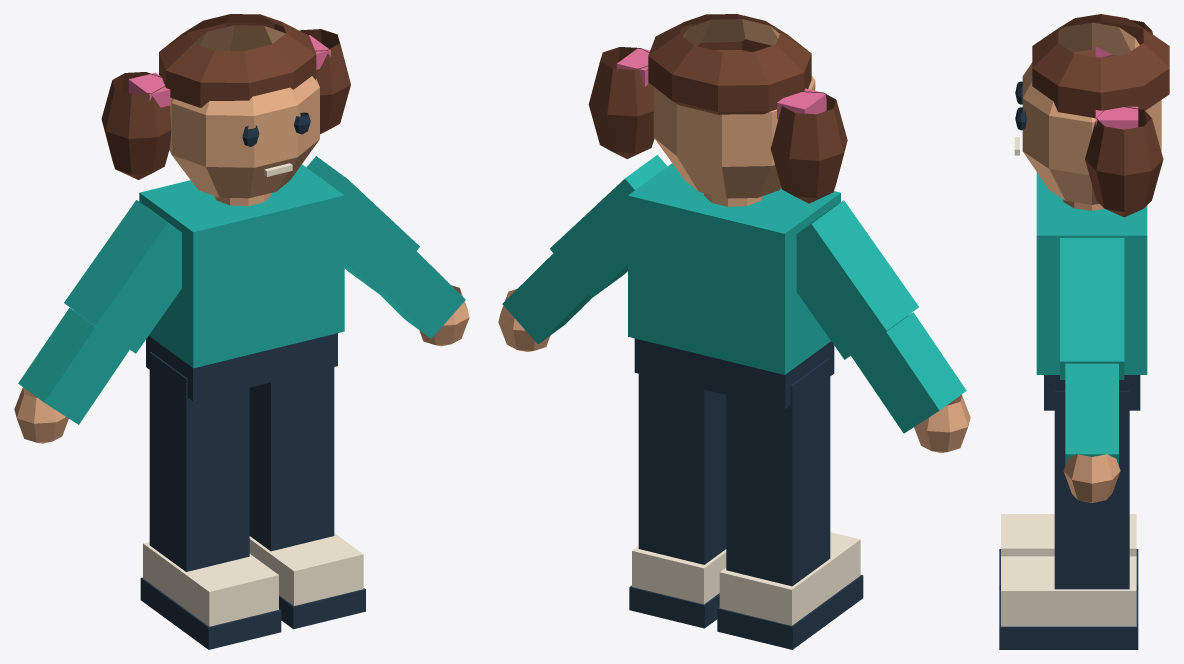
The model's file is 02_runner_skin_teal.obj.
3 renders of one model, left to right at view 1: azimuth 30°, elevation 25°; view 2: azimuth 150°, elevation 25°; view 3: azimuth 270°, elevation 25°, orthographic. The views are drawn at different scales.
Parts seen in each view (by area): view 1: part_7, part_2, part_5, part_9, part_11, part_10, part_12, part_0, part_6, part_17, part_3, part_14 (+7 smaller); view 2: part_7, part_2, part_5, part_9, part_11, part_10, part_12, part_6, part_0, part_17, part_14, part_20 (+7 smaller); view 3: part_7, part_5, part_10, part_9, part_17, part_3, part_20, part_18, part_4, part_0, part_19, part_6 (+1 smaller).
Boxes of the visible parts, x1,y1,x2,y2 form: part_7: (139,164,344,368); part_2: (149,352,249,571); part_5: (249,367,334,551); part_9: (169,25,319,198); part_11: (64,200,181,353); part_10: (159,14,316,107); part_12: (18,308,129,424); part_0: (143,542,278,626); part_6: (146,333,337,401); part_17: (306,156,419,294); part_3: (249,533,363,605); part_14: (101,72,171,179); part_7: (628,163,840,374); part_2: (726,358,830,586); part_5: (638,373,726,564); part_9: (653,19,815,198); part_11: (796,200,918,359); part_10: (648,14,811,114); part_12: (851,312,966,433); part_6: (634,338,834,409); part_0: (719,532,860,625); part_17: (550,155,667,297); part_14: (770,91,847,203); part_20: (588,47,654,158); part_7: (1036,172,1147,374); part_5: (1054,391,1129,589); part_10: (1032,14,1169,118); part_9: (1022,22,1161,204); part_17: (1060,238,1124,379); part_3: (1001,556,1136,626); part_20: (1085,106,1163,217); part_18: (1065,363,1118,465); part_4: (999,591,1138,649); part_0: (1001,514,1136,556); part_19: (1063,453,1120,502); part_6: (1044,375,1140,410).
Bounding box in the file's own units: 1.49 × 1.78 × 0.4777.
